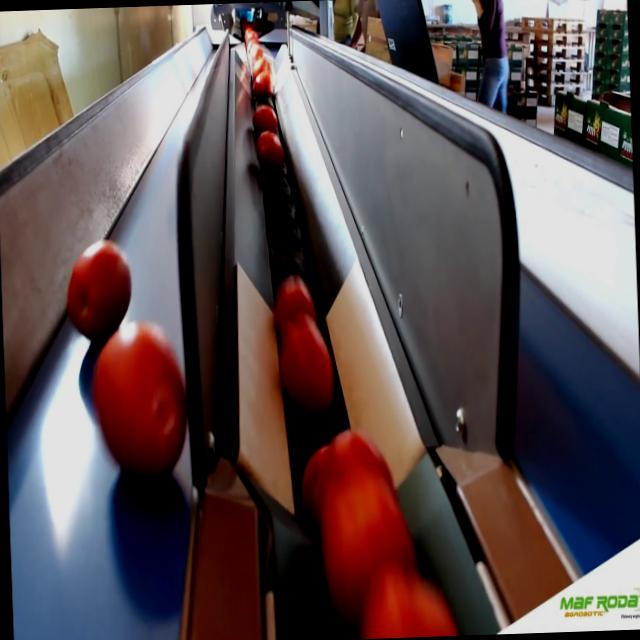Tomato: (89, 318, 190, 486), (326, 488, 416, 614), (352, 562, 457, 638), (300, 426, 396, 508), (64, 234, 135, 342), (275, 316, 335, 408), (272, 272, 318, 334), (254, 131, 283, 163), (252, 103, 280, 132), (249, 72, 274, 95), (252, 60, 270, 76), (250, 44, 262, 58), (247, 41, 260, 50), (248, 31, 257, 43)
